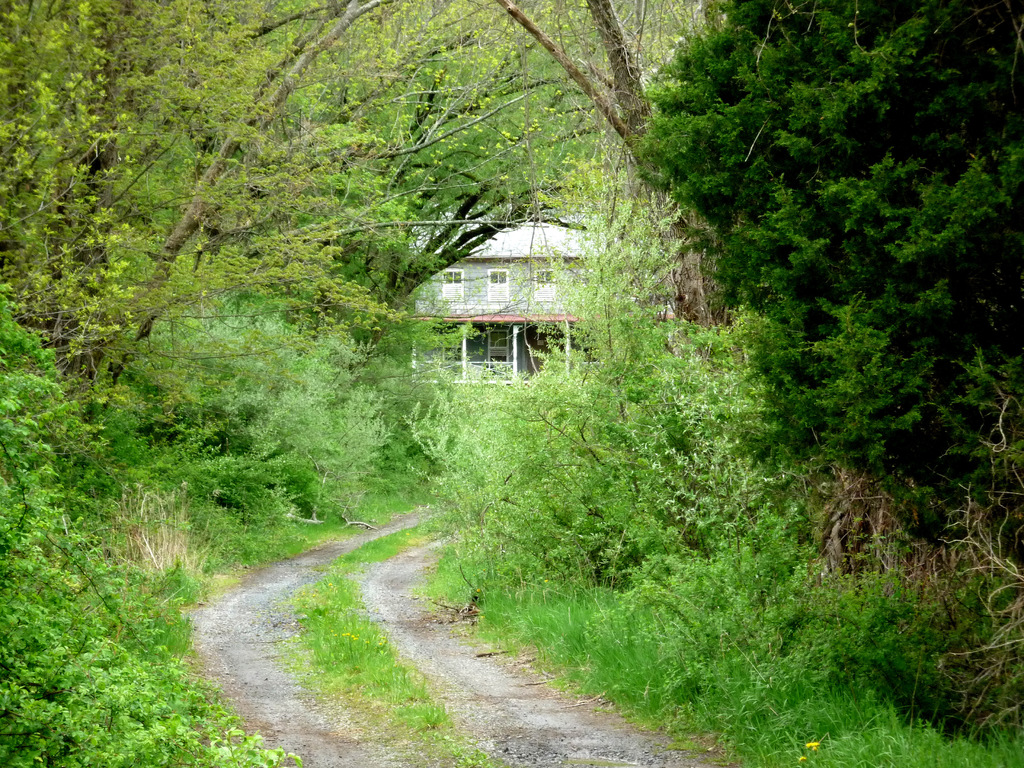Tree: (0, 0, 1023, 607)
